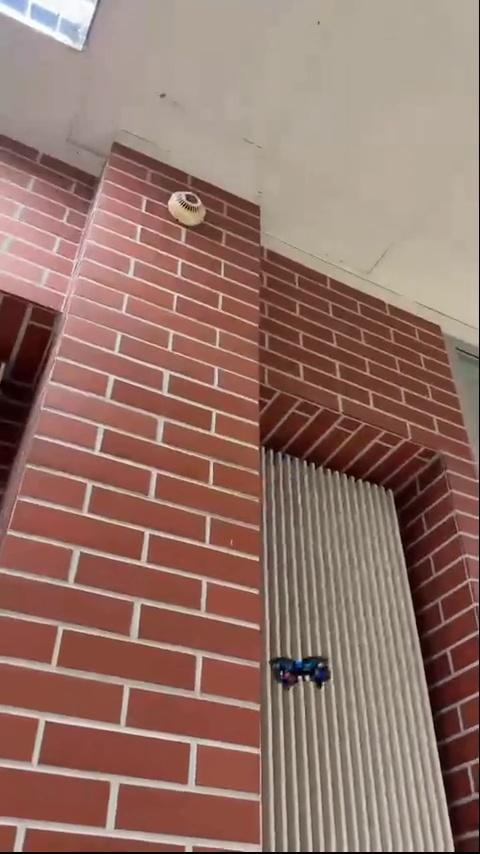drone: (271, 653, 328, 688)
